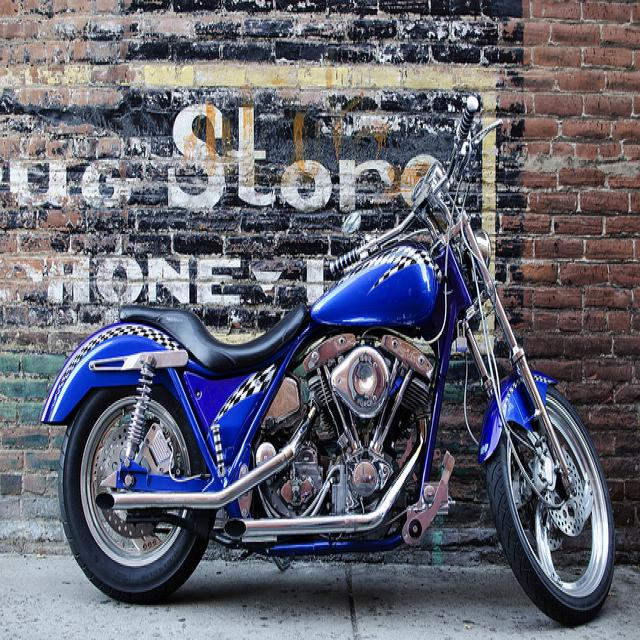motor: (40, 96, 615, 629)
